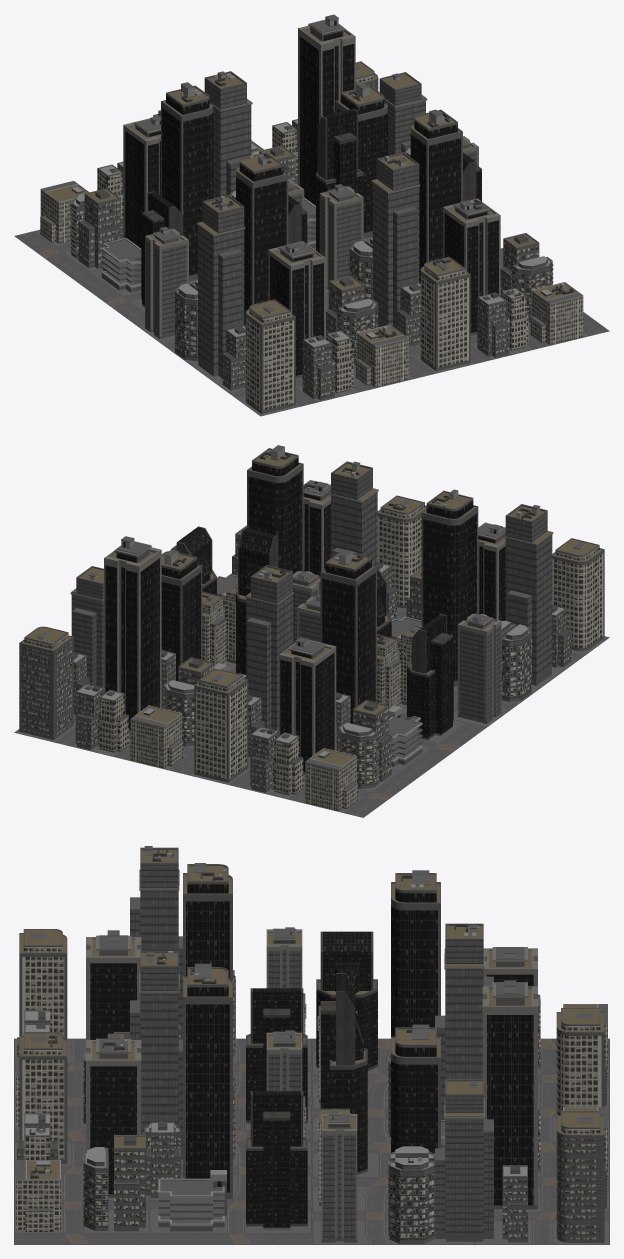
File: BuildingSphere_2.gltf
3 views of the same model, one above another, from view 1: azimuth 30°, elevation 25°; view 2: azimuth 150°, elevation 25°; view 3: azimuth 270°, elevation 25° (orthographic). The views are drawn at different scales.
Visible parts, largest first — view 1: cityPiece3; view 2: cityPiece3; view 3: cityPiece3.
Part boxes in pixels (box(x1,y1,x2,y2)): cityPiece3: box(14, 14, 609, 416); cityPiece3: box(14, 445, 609, 817); cityPiece3: box(14, 846, 609, 1244).
Bounding box in the file's own units: 648 × 331 × 792.
Materials: 7 (7 with a texture image).
